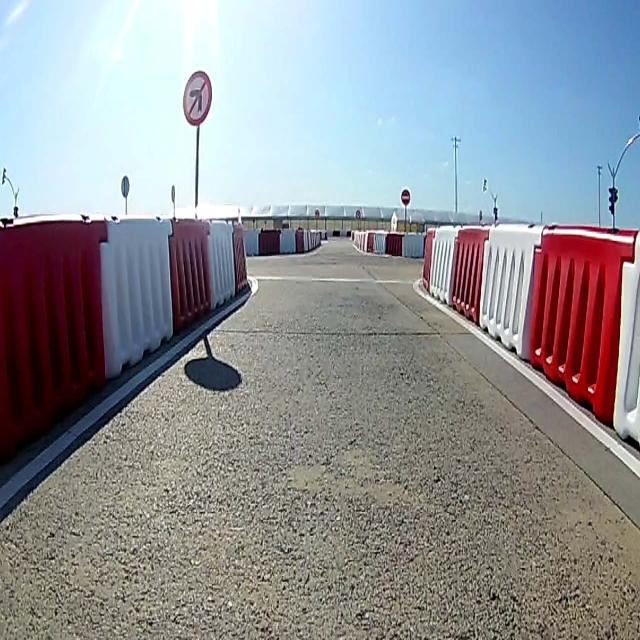girisyok: (400, 185, 412, 207)
soladonulmez: (182, 70, 214, 126)
